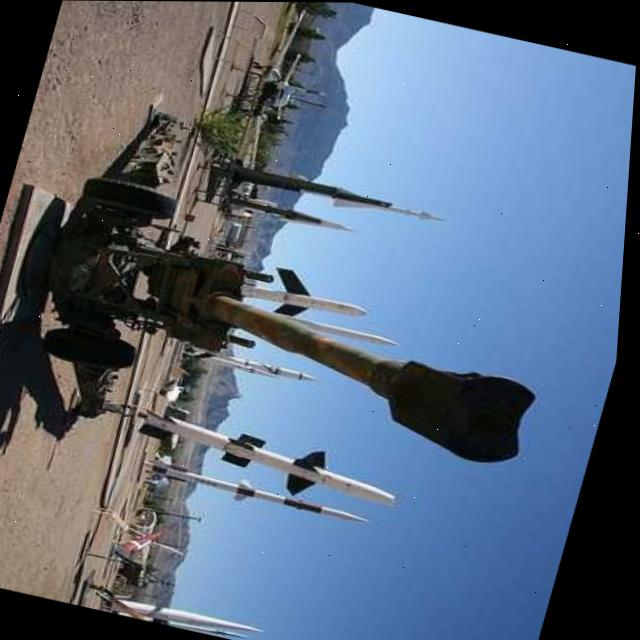missile: (143, 404, 427, 519), (166, 464, 378, 526), (275, 171, 452, 228), (239, 270, 372, 330), (280, 312, 406, 351), (240, 194, 357, 235), (203, 348, 322, 387)
